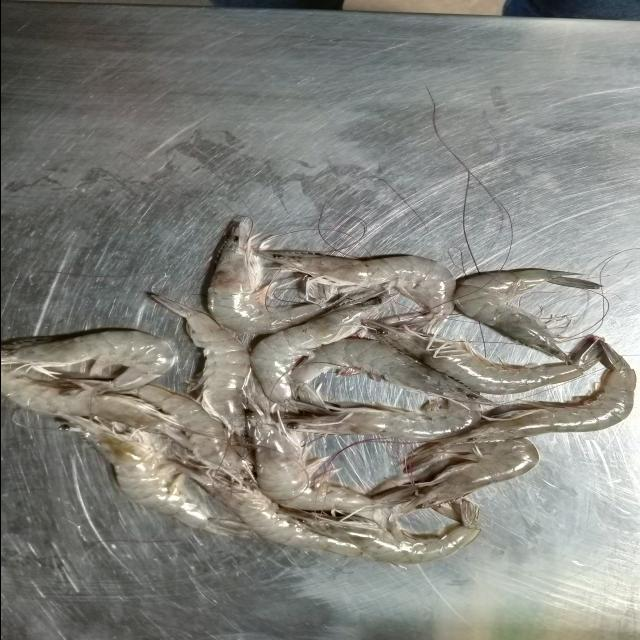shrimp: (405, 339, 636, 472), (62, 415, 228, 535), (366, 322, 600, 395), (186, 469, 363, 556), (248, 298, 381, 409), (0, 370, 188, 446), (206, 216, 326, 334), (255, 251, 454, 321), (151, 295, 248, 434), (452, 269, 600, 360), (290, 338, 489, 404), (246, 410, 374, 512), (279, 500, 478, 564), (370, 438, 538, 512), (0, 330, 173, 391), (135, 385, 242, 472), (284, 399, 481, 441)
